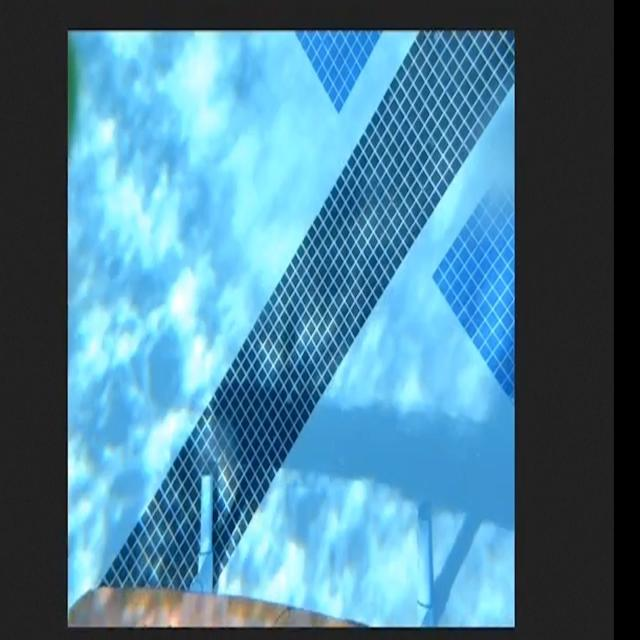Path: (68, 582, 373, 628)
